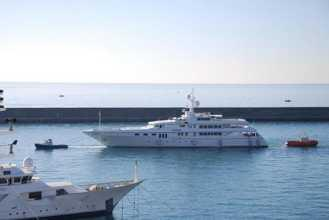otherboat: (32, 135, 65, 152), (286, 134, 322, 148)
yacht: (86, 99, 268, 153), (1, 162, 133, 216)
